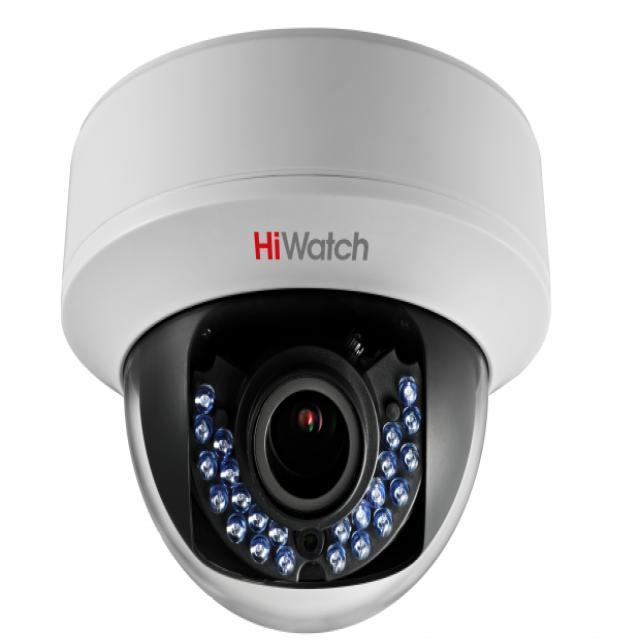hidden camera: (241, 370, 376, 521)
